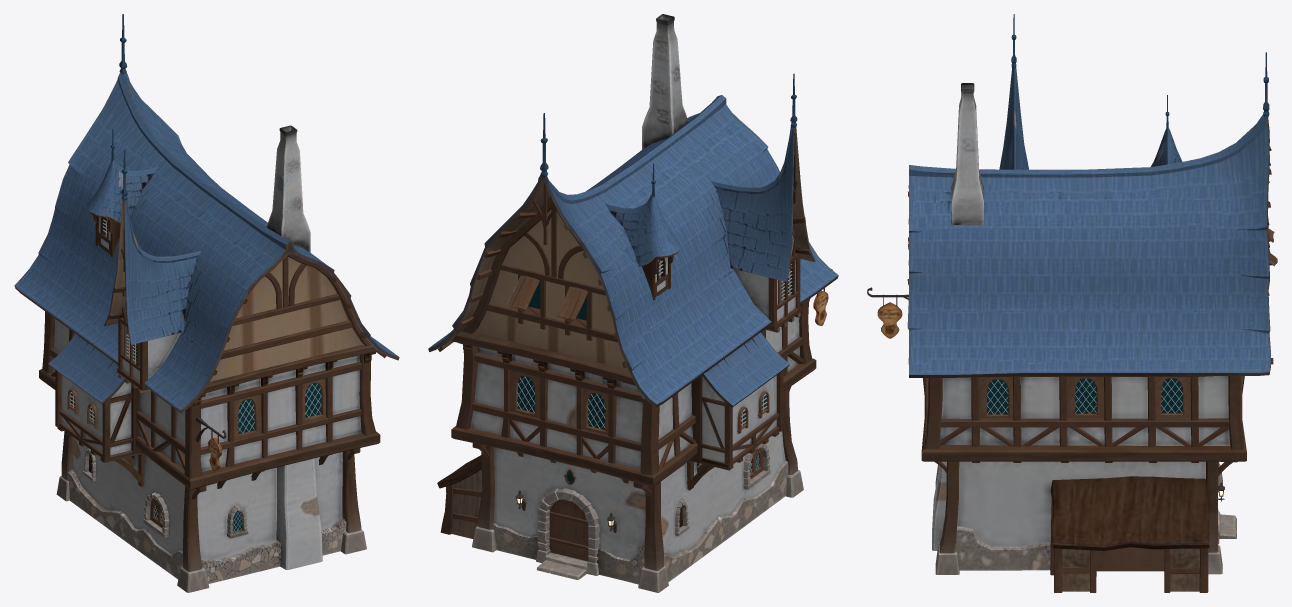
Rendered from taverna.glb.
3 views of the same model, side by side, from view 1: azimuth 30°, elevation 25°; view 2: azimuth 150°, elevation 25°; view 3: azimuth 270°, elevation 25° (orthographic). The views are drawn at different scales.
Visible parts, largest first — view 1: Object_3, Object_2; view 2: Object_3, Object_2; view 3: Object_3, Object_2.
Boxes of the visible parts, x1,y1,x2,y2 form: Object_3: (14, 14, 399, 579); Object_2: (39, 125, 386, 592); Object_3: (428, 14, 838, 581); Object_2: (438, 14, 816, 592); Object_3: (867, 14, 1271, 592); Object_2: (883, 83, 1277, 574).
Bounding box in the file's own units: 7.98 × 13.4 × 10.46.
1 material, 1 textured.
